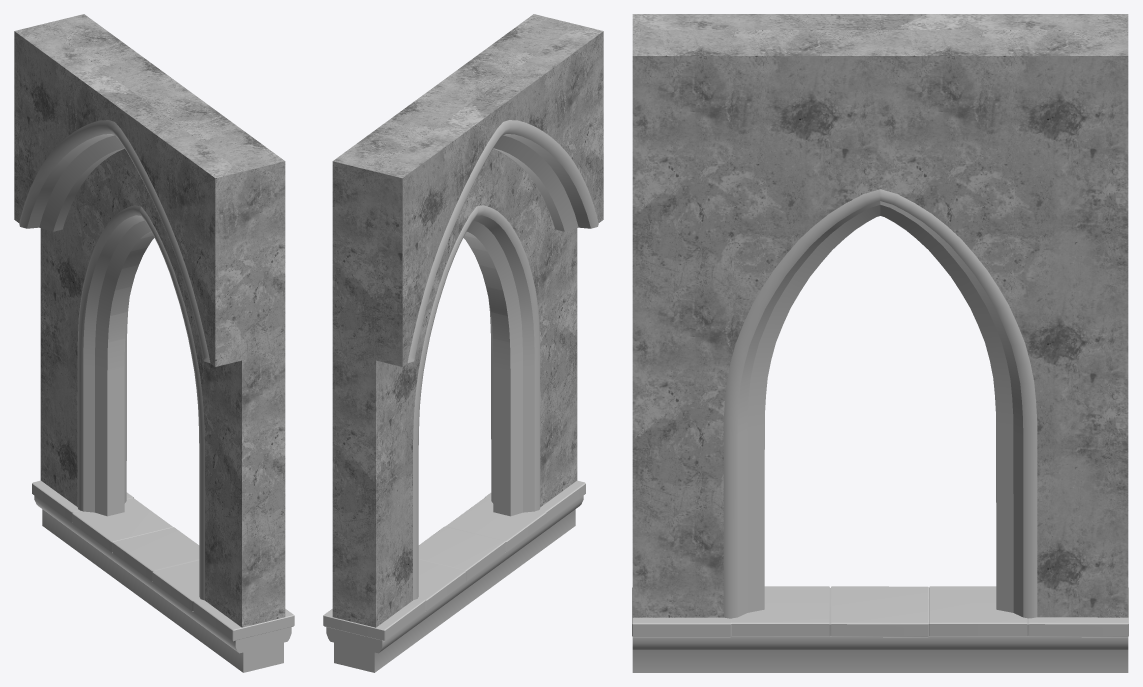
Rendered from SM_WindowWall_02a.fbx.
The picture shows the model from 3 angles, left to right: view 1: azimuth 30°, elevation 25°; view 2: azimuth 150°, elevation 25°; view 3: azimuth 270°, elevation 25°; orthographic projection. The views are drawn at different scales.
Parts seen in each view (by area): view 1: SM_WindowWall_02a_LOD0; view 2: SM_WindowWall_02a_LOD0; view 3: SM_WindowWall_02a_LOD0.
Boxes of the visible parts, bbox=[...] form: SM_WindowWall_02a_LOD0: bbox=[14, 14, 294, 672]; SM_WindowWall_02a_LOD0: bbox=[323, 14, 603, 672]; SM_WindowWall_02a_LOD0: bbox=[632, 14, 1128, 672].
Size of the model in its own units: 190 by 802 by 1100.
